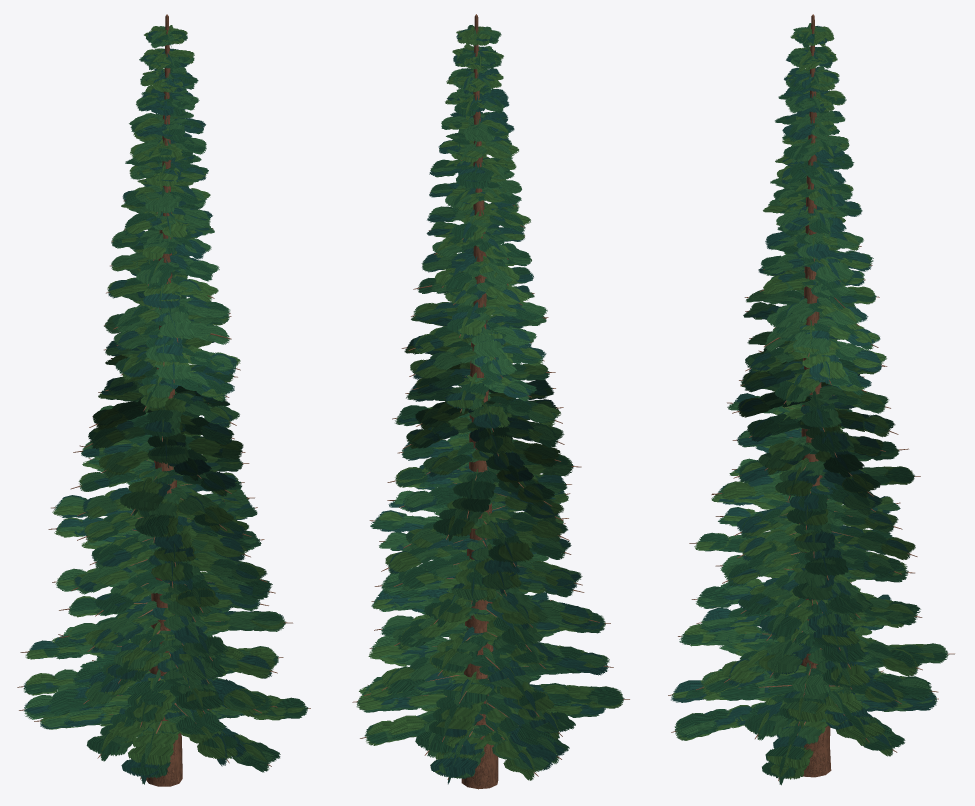
File: hero_spruce_c.obj
3 renders of one model, left to right at view 1: azimuth 30°, elevation 25°; view 2: azimuth 150°, elevation 25°; view 3: azimuth 270°, elevation 25°, orthographic.
Parts seen in each view (by area): view 1: hero_spruce_c; view 2: hero_spruce_c; view 3: hero_spruce_c.
Boxes of the visible parts, bbox=[...] form: hero_spruce_c: bbox=[17, 14, 310, 786]; hero_spruce_c: bbox=[352, 14, 629, 789]; hero_spruce_c: bbox=[668, 14, 954, 785].
Size of the model in its own units: 6.85 by 19.22 by 6.89.
2 materials, 2 textured.
